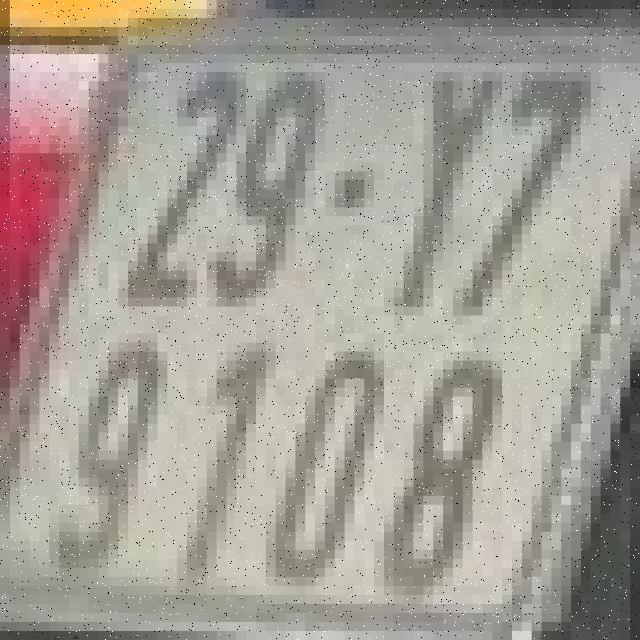0: (266, 347, 384, 590)
1: (177, 342, 266, 577)
2: (123, 72, 231, 307)
7: (468, 72, 586, 316)
8: (384, 356, 502, 590)
9: (44, 347, 162, 572), (217, 72, 325, 307)
Y: (384, 68, 492, 311)
